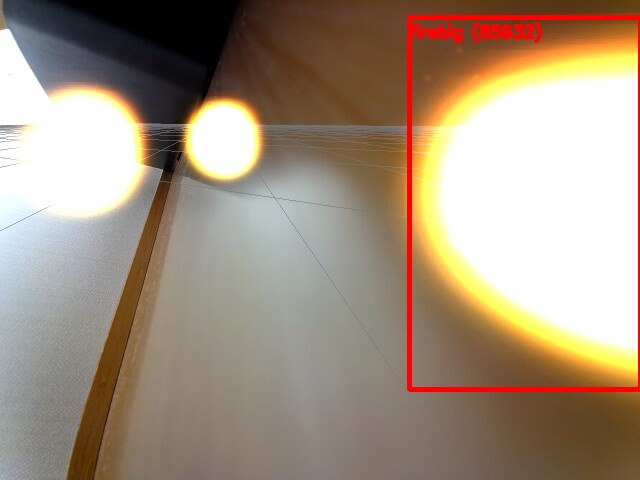firebig: (409, 17, 640, 389)
